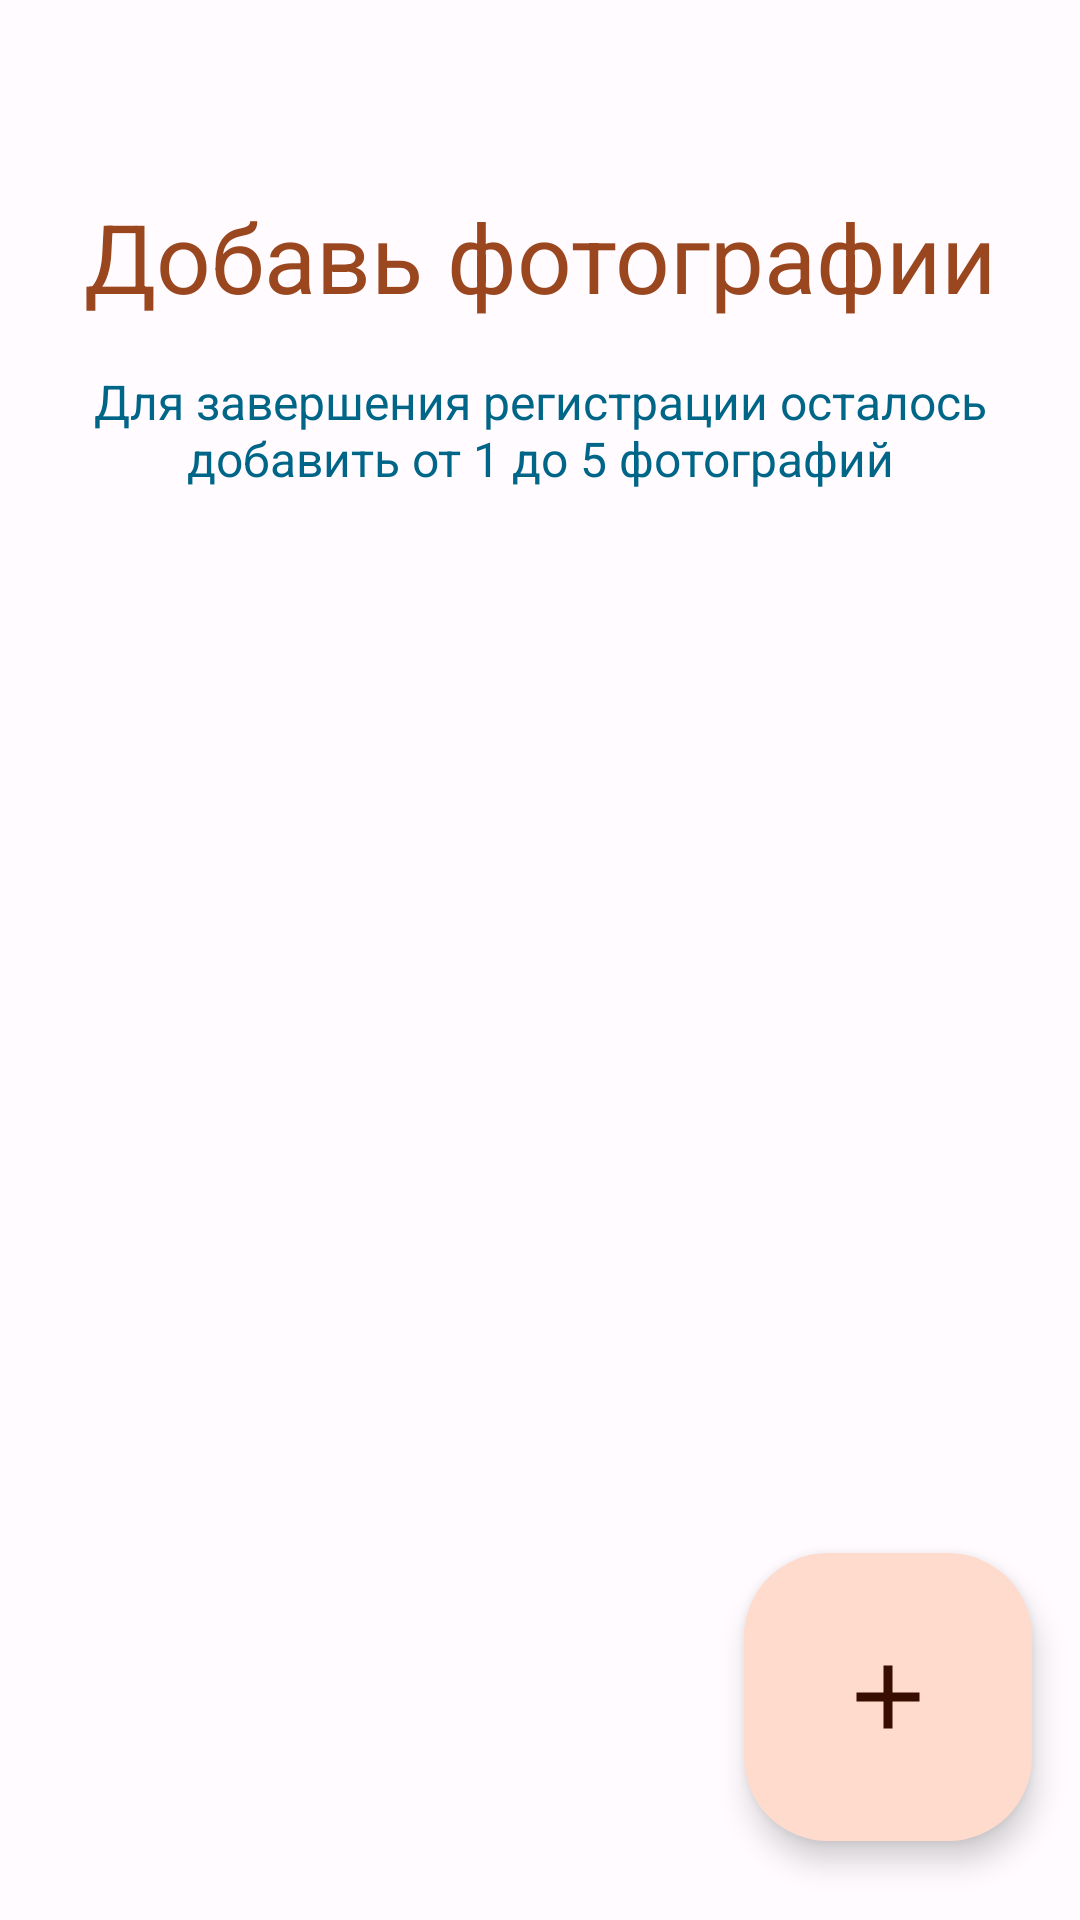

Where icons sit on this 1080px x 1920px app screen, as (x1, y1, x2, y2):
add: (744, 1553, 1032, 1841)
